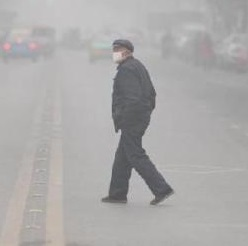person: (98, 37, 176, 208)
